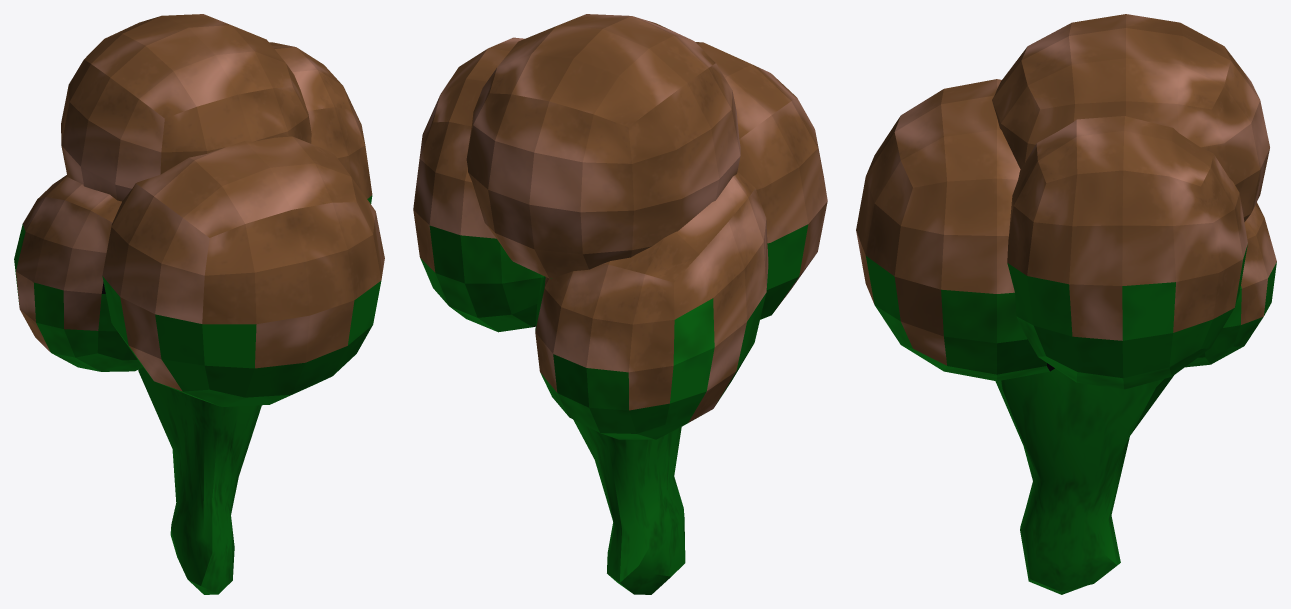
The model's file is GameJamBrocoliChocolate.fbx.
The picture shows the model from 3 angles, left to right: view 1: azimuth 30°, elevation 25°; view 2: azimuth 150°, elevation 25°; view 3: azimuth 270°, elevation 25°; orthographic projection. The views are drawn at different scales.
Parts seen in each view (by area): view 1: Cube.001, Cube.004, Cube.002, Cube, Cube.003; view 2: Cube.004, Cube.002, Cube.003, Cube.001, Cube; view 3: Cube.003, Cube.001, Cube.004, Cube, Cube.002.
Boxes of the visible parts, bbox=[...] form: Cube.001: bbox=[102, 135, 384, 406]; Cube.004: bbox=[61, 14, 311, 201]; Cube.002: bbox=[14, 175, 142, 371]; Cube: bbox=[138, 367, 261, 594]; Cube.003: bbox=[269, 42, 372, 203]; Cube.004: bbox=[466, 14, 740, 278]; Cube.002: bbox=[535, 172, 768, 439]; Cube.003: bbox=[413, 37, 544, 332]; Cube.001: bbox=[695, 42, 827, 319]; Cube: bbox=[573, 419, 685, 594]; Cube.003: bbox=[1007, 116, 1247, 389]; Cube.001: bbox=[856, 79, 1054, 381]; Cube.004: bbox=[992, 14, 1269, 221]; Cube: bbox=[995, 368, 1173, 594]; Cube.002: bbox=[1185, 202, 1276, 367].
Size of the model in its own units: 103 by 178 by 118.
